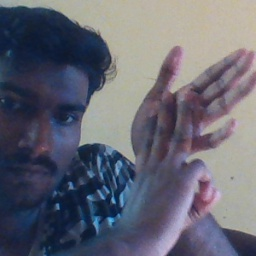M: (121, 40, 256, 238)
